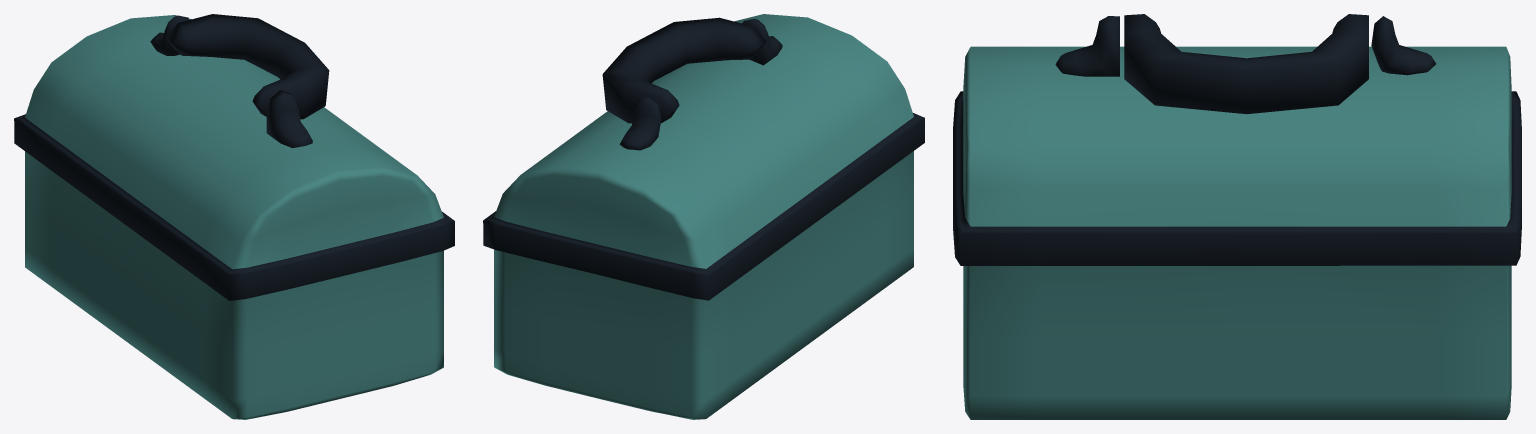
Rendered from foodBox.fbx.
3 views of the same model, side by side, from view 1: azimuth 30°, elevation 25°; view 2: azimuth 150°, elevation 25°; view 3: azimuth 270°, elevation 25° (orthographic). The views are drawn at different scales.
Parts seen in each view (by area): view 1: foodBox; view 2: foodBox; view 3: foodBox.
Part boxes in pixels (box(x1,y1,x2,y2)): foodBox: box(14, 14, 454, 419); foodBox: box(483, 14, 924, 419); foodBox: box(953, 14, 1521, 419).
Size of the model in its own units: 0.2876 by 0.3244 by 0.4861.
